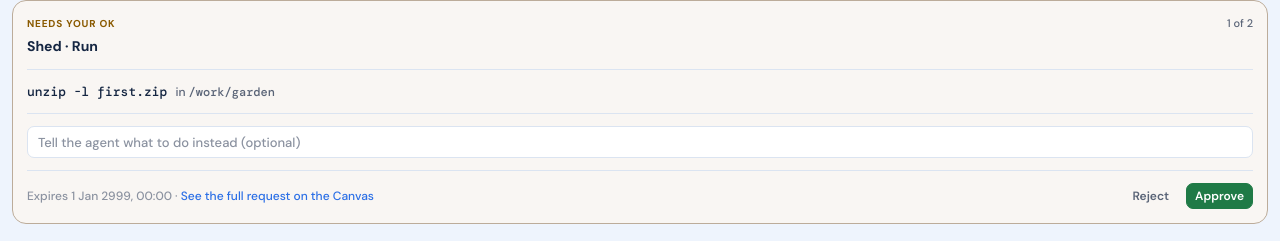
Scenario: approval dock › shows the oldest first, says how many wait, and advances after each decision
Check: the text with test id "approval-dock-count" reads "1 of 2", box top-left (1227, 15), bottom-right (1253, 32)
Check: the text "unzip -l first.zip" is shown, box top-left (27, 82), bottom-right (167, 101)
What coordinates should you click on to do the following:
click the button "Approve"
I would click on:
 (1220, 196)
Its box is top-left (1186, 183), bottom-right (1253, 209).
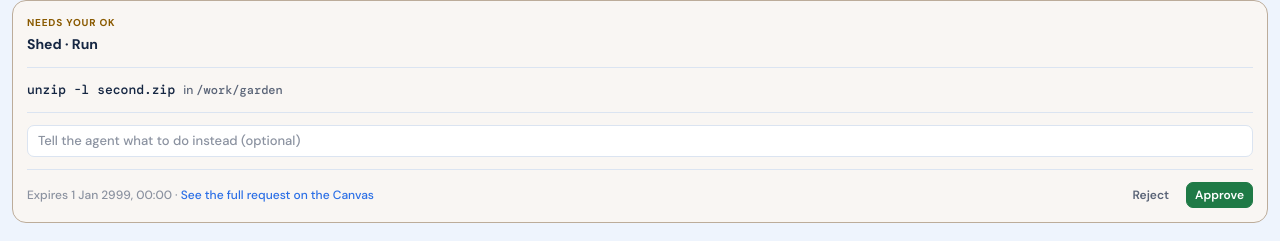
Check: the text "unzip -l second.zip" is shown, box top-left (27, 80), bottom-right (175, 100)
Check: the text with test id "approval-dock-count" is gone
